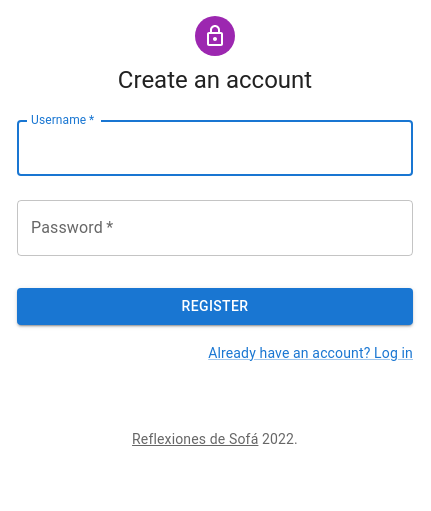
Test: Display error alert when response there is an error with status.
The width and height of the screenshot is (431, 511).
Type "username" into the field with id "username".
click(215, 148); type("username")  # box x1=17 y1=120 x2=413 y2=176
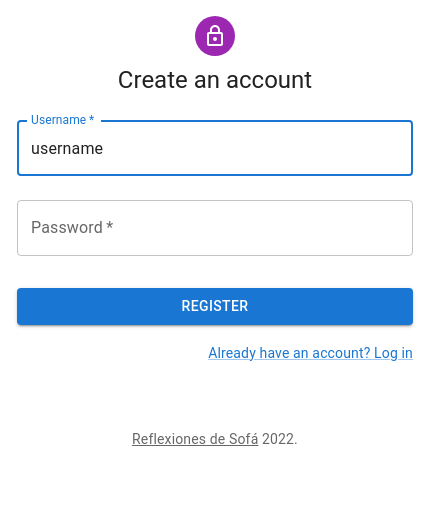
Type "password" into the password field labelled "Password *".
click(215, 228); type("password")  # box x1=17 y1=200 x2=413 y2=256
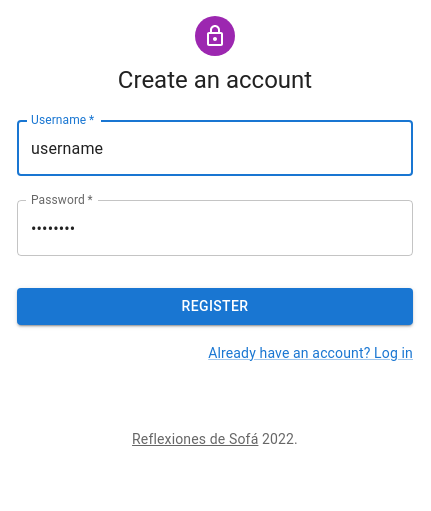
Click the button with test id "register-button".
click(215, 306)  # box x1=17 y1=288 x2=413 y2=324
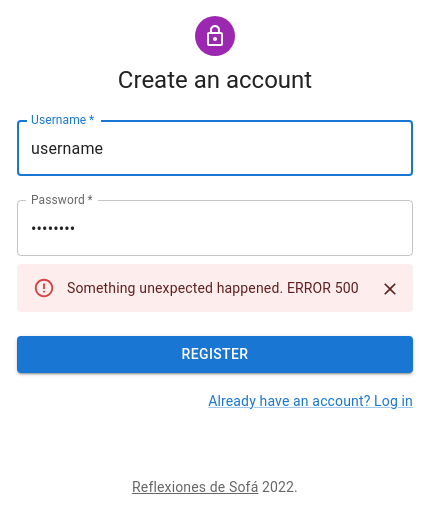
Now the message "Something unexpected happened. ERROR 500" is shown, box x1=17 y1=264 x2=413 y2=312
